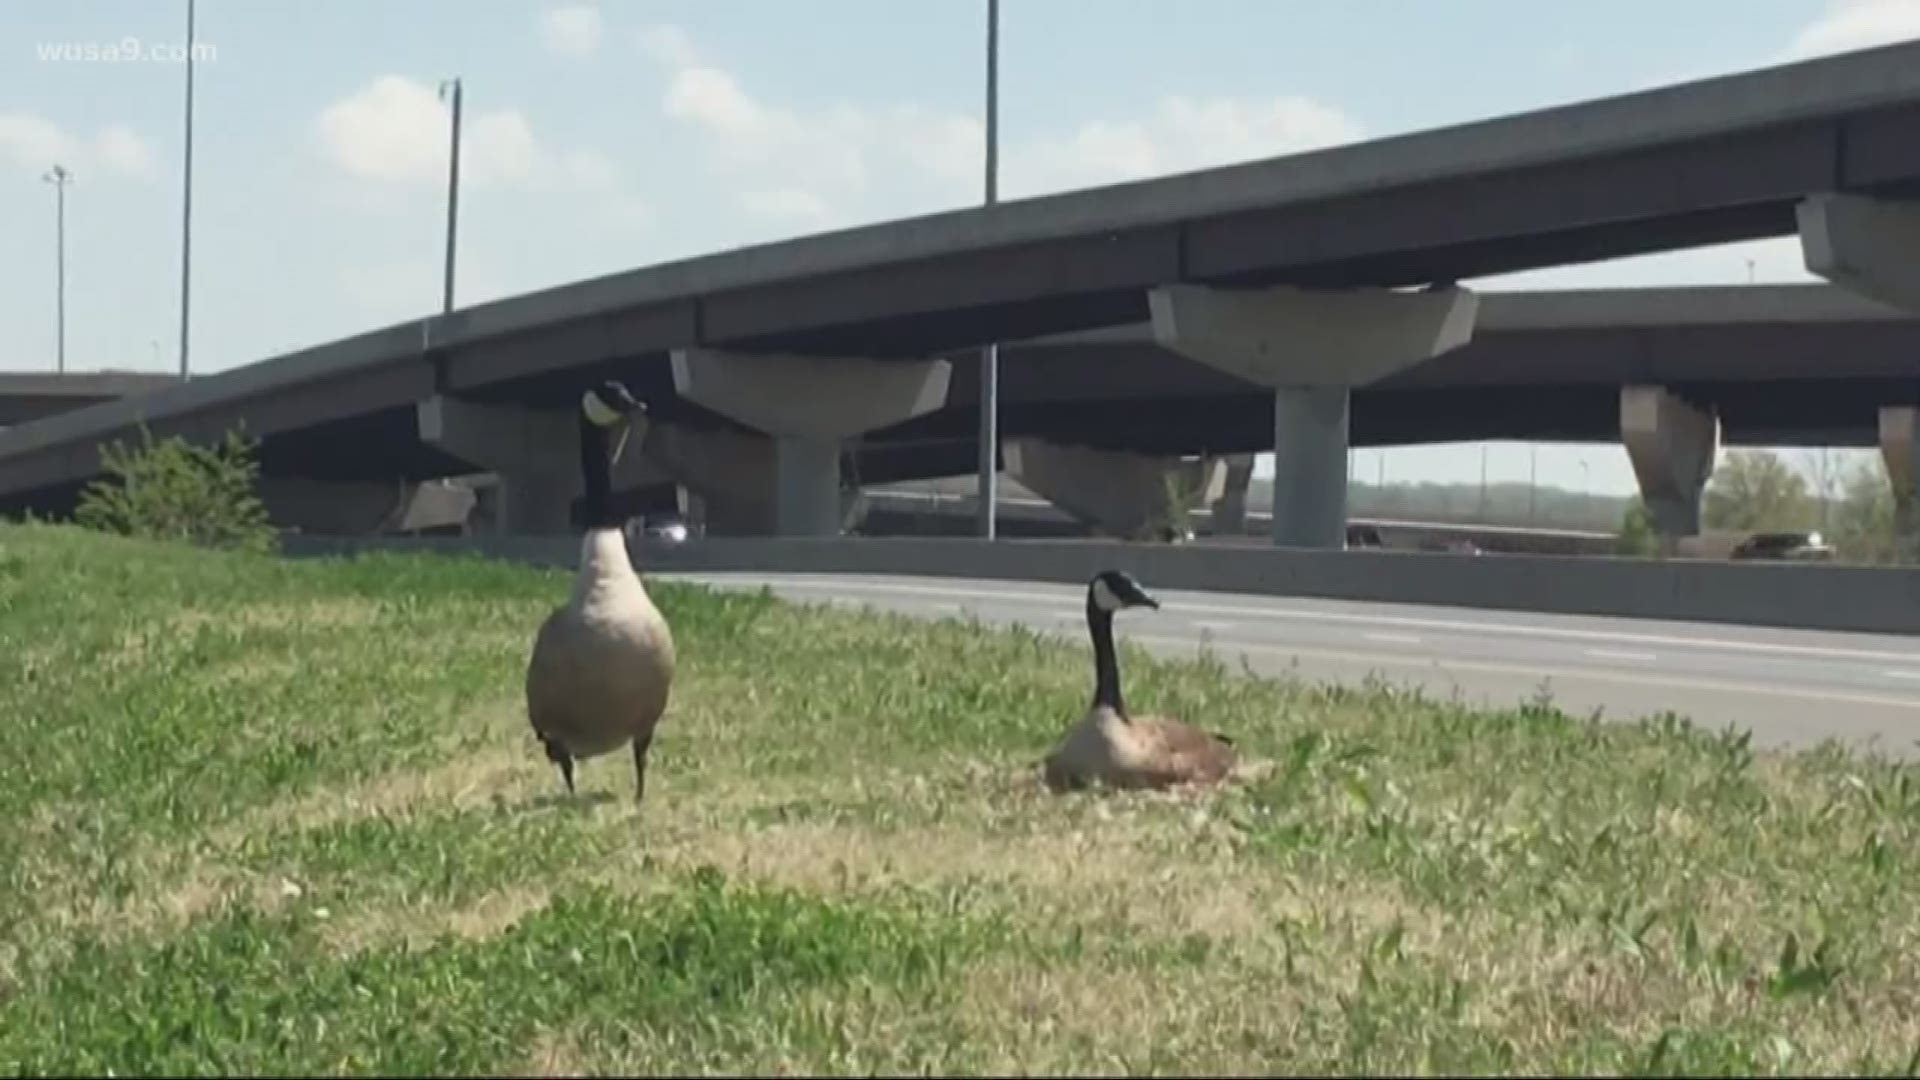goose: (514, 375, 676, 814), (1036, 560, 1247, 804)
